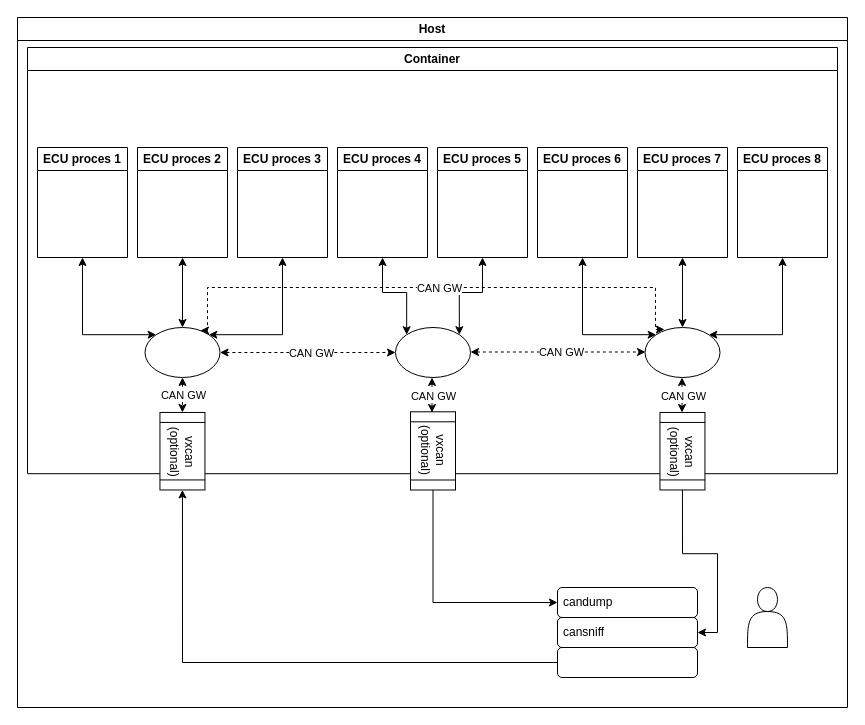
Some shapes in this 865 by 725 pixel diagram are drawn without their labels. The box of each missing label's shape, as (x1, y1, x2, y2) in pixels:
CAN bus 1 vcan0: (144, 326, 220, 378)
CAN bus 3 vcan1: (394, 326, 470, 378)
CAN bus 3 vcan2: (644, 326, 720, 378)
CAN tools: (557, 557, 697, 677)
caringcaribou: (556, 646, 698, 678)
